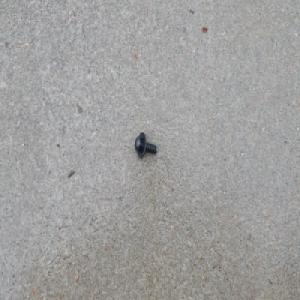BoltWasher: (134, 131, 157, 159)
